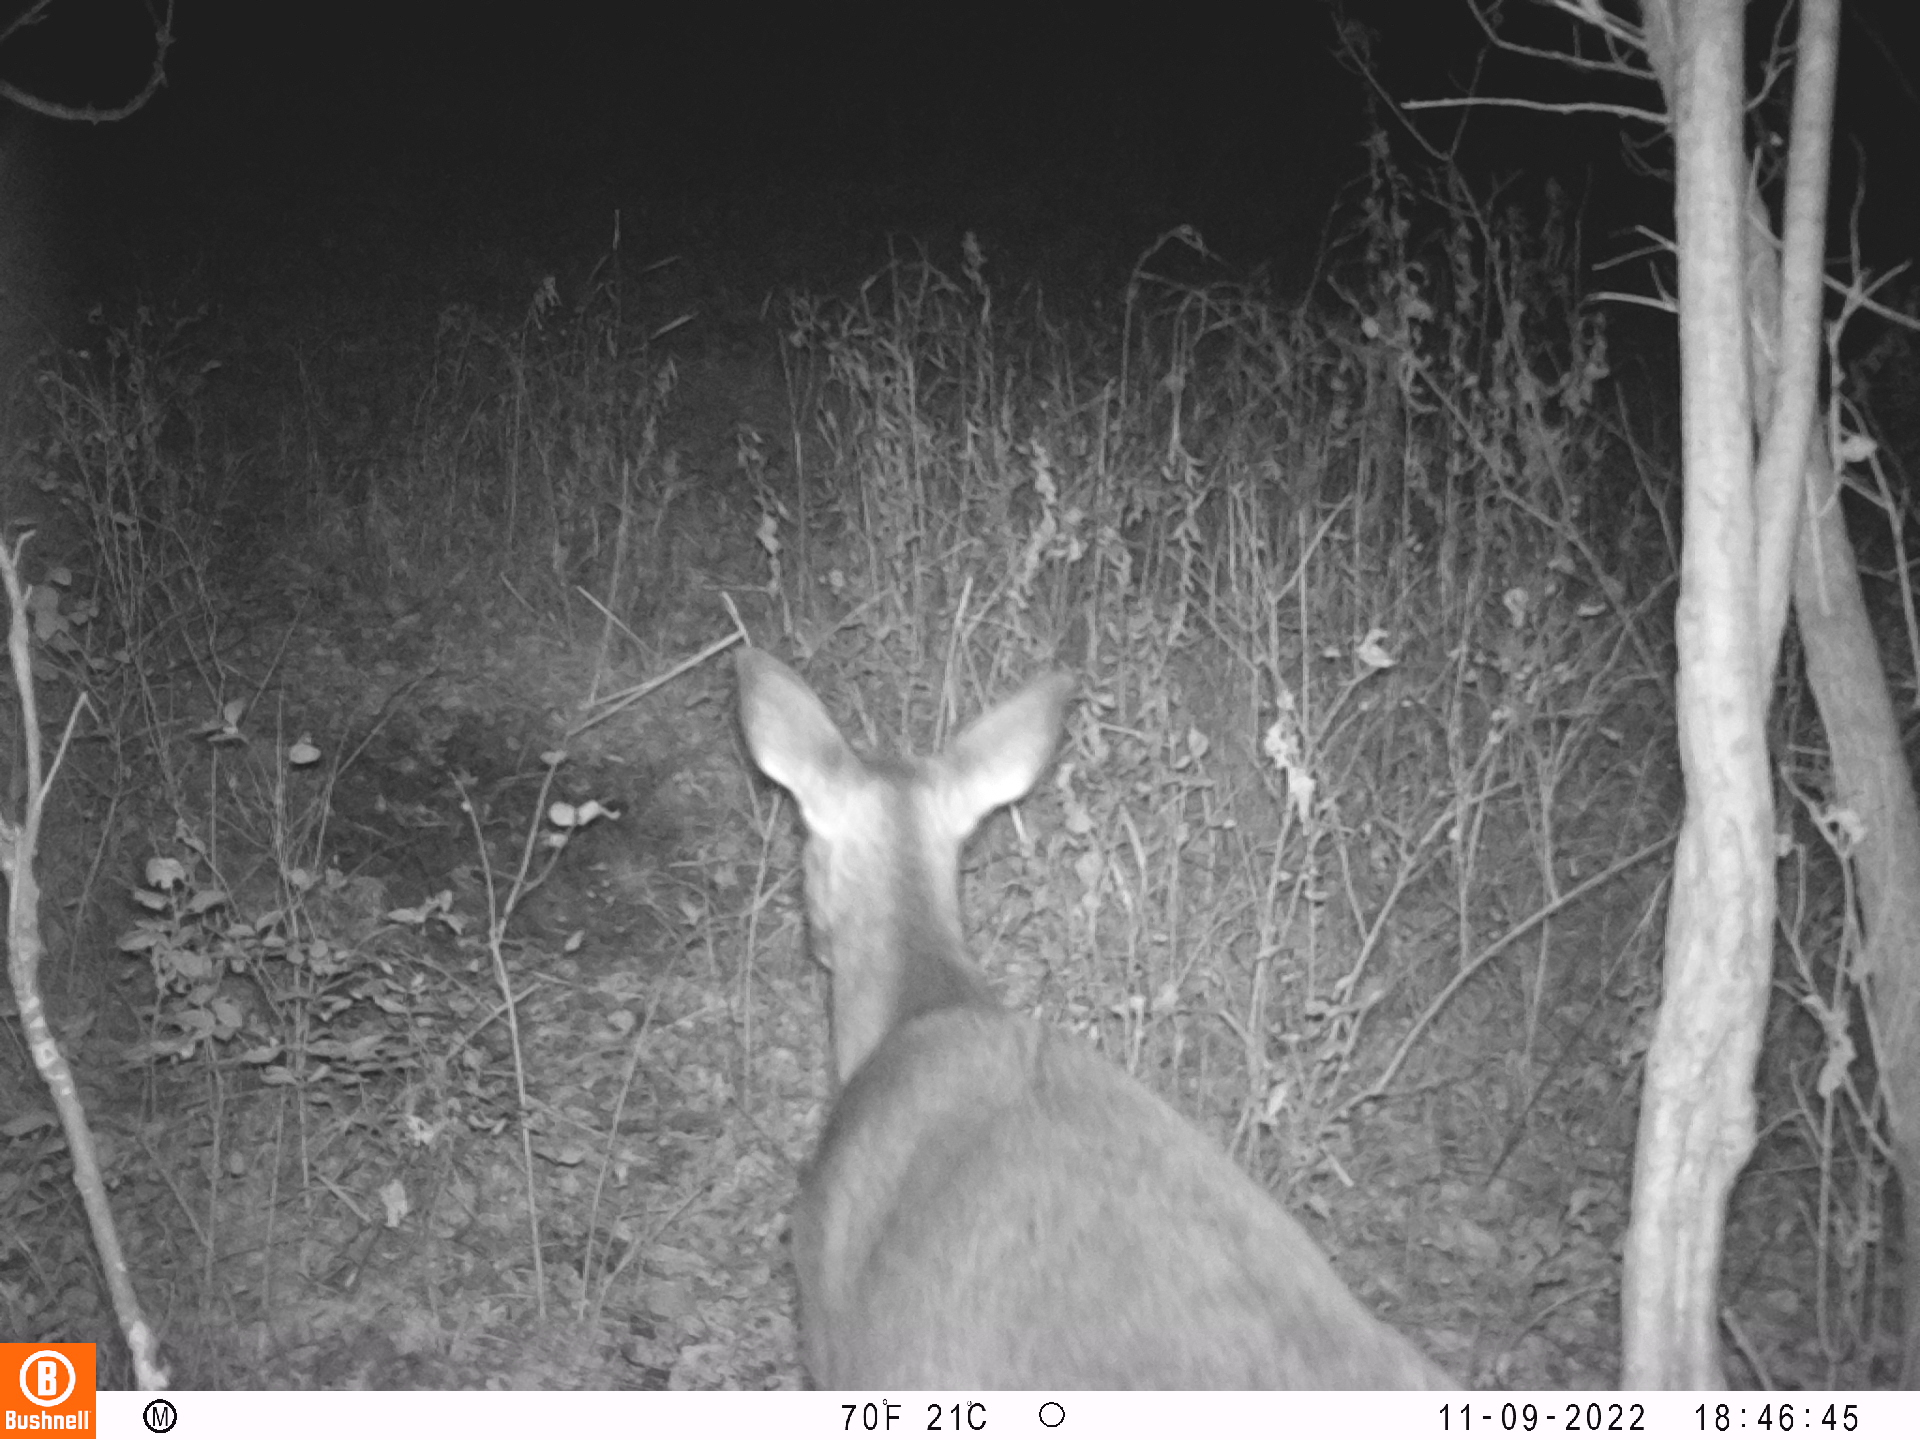Deer: (730, 644, 1562, 1389)
